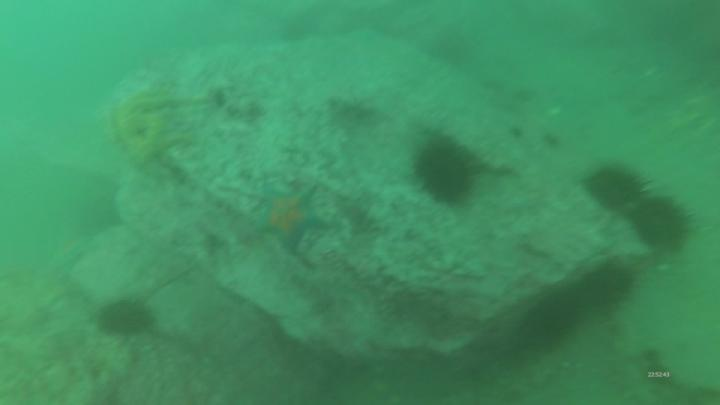echinus: (415, 143, 473, 200), (636, 197, 685, 252), (584, 268, 634, 309), (591, 165, 640, 201), (545, 289, 583, 334), (99, 306, 156, 336)
starfish: (252, 187, 330, 253)
